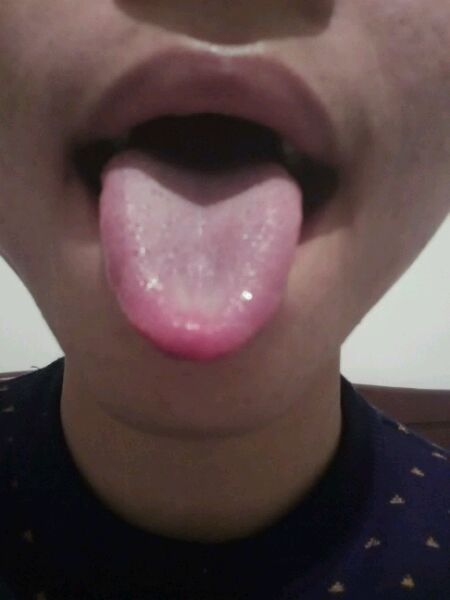baitaishe: (99, 147, 303, 361)
hongshe: (99, 147, 303, 361)
